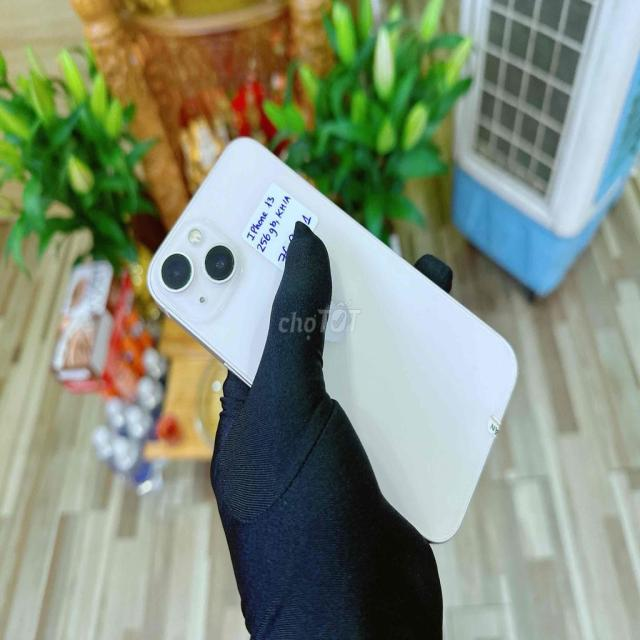gen_12_13: (146, 135, 519, 544)
